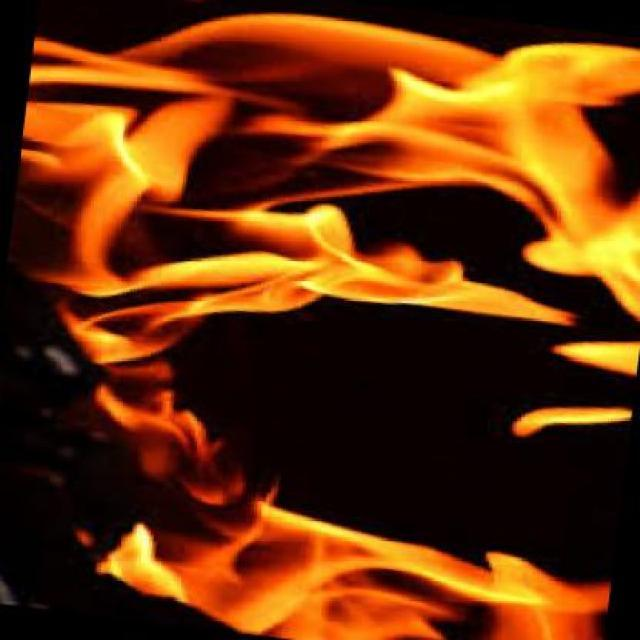Fire: (54, 39, 606, 640)
